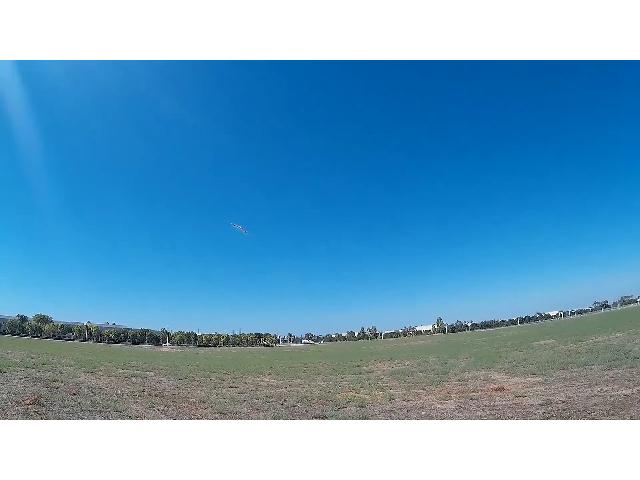Anti-Drone: (231, 223, 247, 233)
